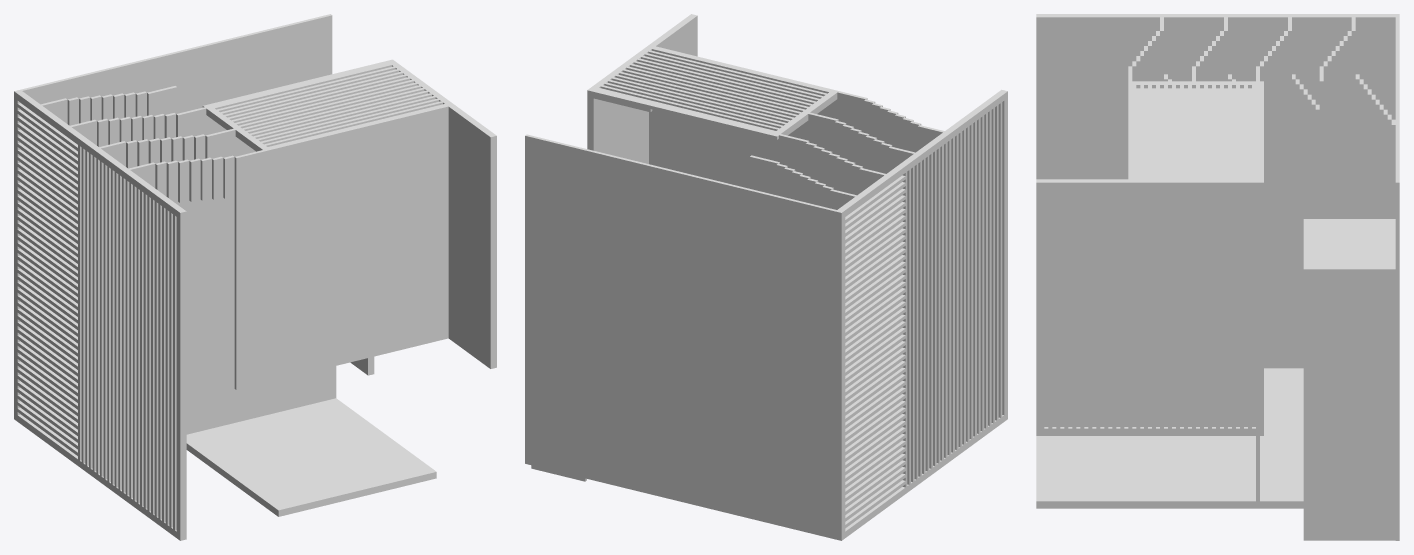
Rendered from TCBA.obj.
3 views of the same model, side by side, from view 1: azimuth 30°, elevation 25°; view 2: azimuth 150°, elevation 25°; view 3: azimuth 270°, elevation 25° (orthographic). The views are drawn at different scales.
Visible parts, largest first — view 1: TCBA; view 2: TCBA; view 3: TCBA.
Part boxes in pixels (<box>): TCBA: <box>14,14,496,540</box>; TCBA: <box>525,14,1007,540</box>; TCBA: <box>1036,14,1399,540</box>.
Size of the model in its own units: 100 by 100 by 91.
Materials: 1 (1 with a texture image).
